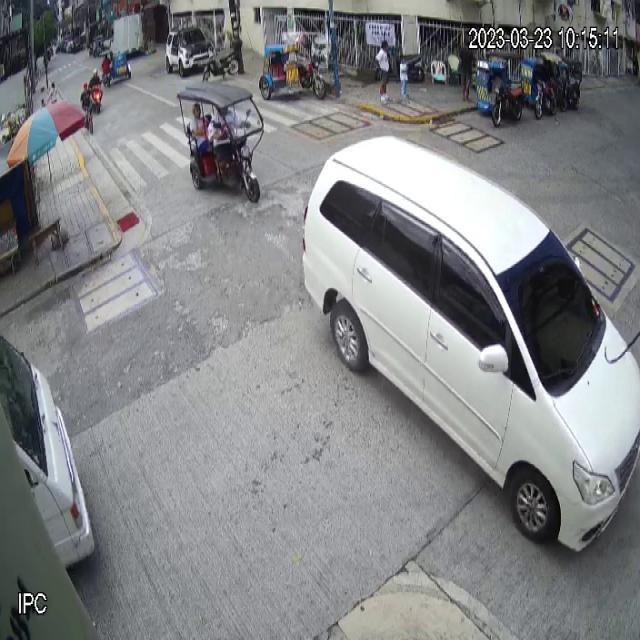Car: (302, 137, 640, 554)
Tricycle: (261, 32, 332, 104), (475, 49, 525, 126)
